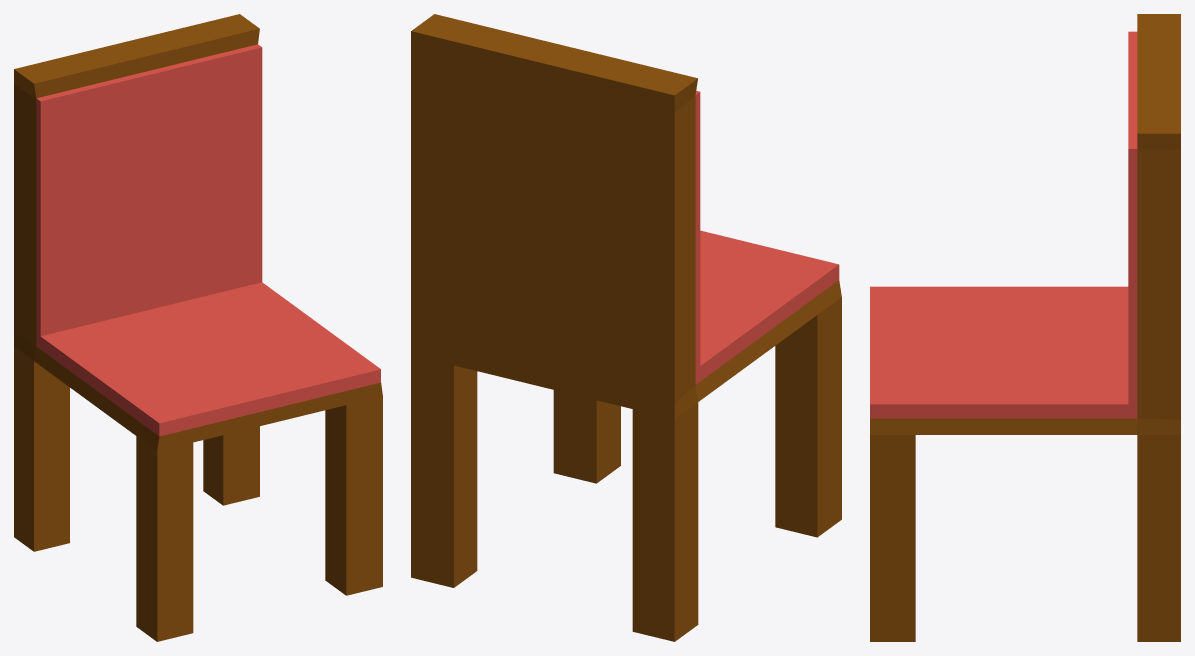
Rendered from chairCushion.fbx.
3 renders of one model, left to right at view 1: azimuth 30°, elevation 25°; view 2: azimuth 150°, elevation 25°; view 3: azimuth 270°, elevation 25°, orthographic. The views are drawn at different scales.
Visible parts, largest first — view 1: Cube; view 2: Cube; view 3: Cube.
Part boxes in pixels (<box>): Cube: <box>14,14,382,641</box>; Cube: <box>411,14,841,641</box>; Cube: <box>870,14,1180,641</box>.
Size of the model in its own units: 257 by 510 by 283.
